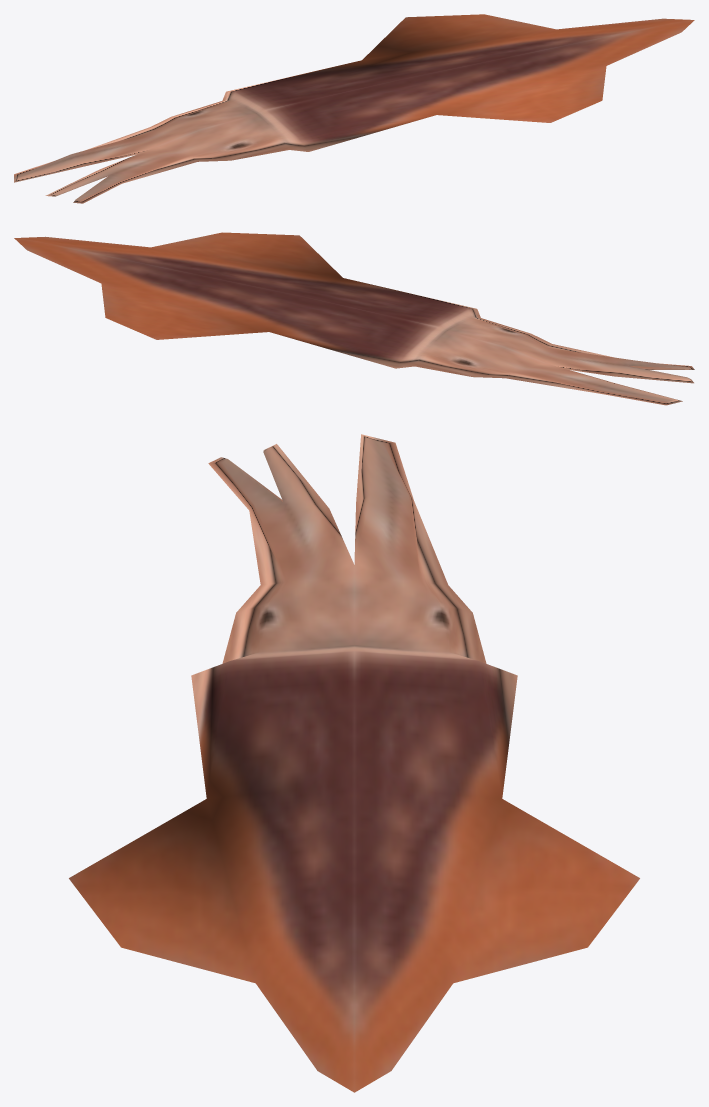
Rendered from Dried_Squid.fbx.
3 renders of one model, top to bottom at view 1: azimuth 30°, elevation 25°; view 2: azimuth 150°, elevation 25°; view 3: azimuth 270°, elevation 25°, orthographic. The views are drawn at different scales.
Parts seen in each view (by area): view 1: Squid; view 2: Squid; view 3: Squid.
Boxes of the visible parts, left/top/right/bottom form: Squid: left=14, top=14, right=694, bottom=203; Squid: left=14, top=232, right=694, bottom=405; Squid: left=69, top=434, right=639, bottom=1092.
Bounding box in the file's own units: 13.8 × 0.2912 × 5.09.
